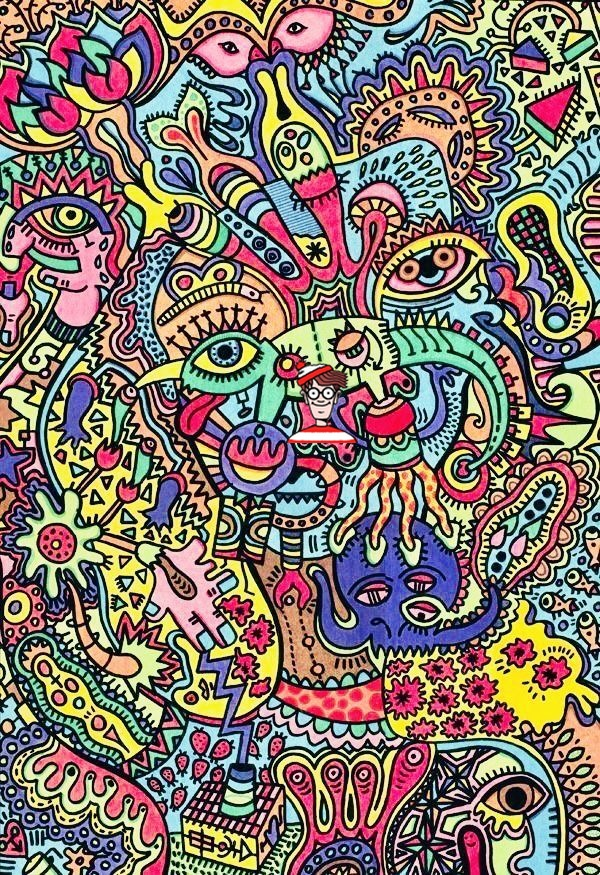waldo: (285, 359, 358, 443)
